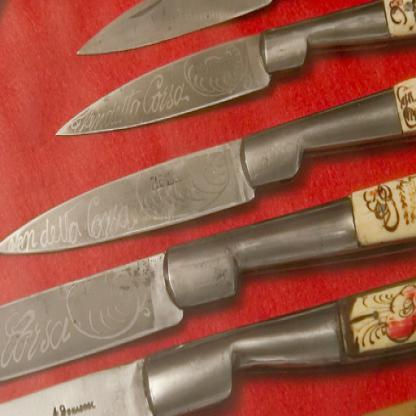knife: (0, 0, 415, 415), (0, 41, 415, 266)
